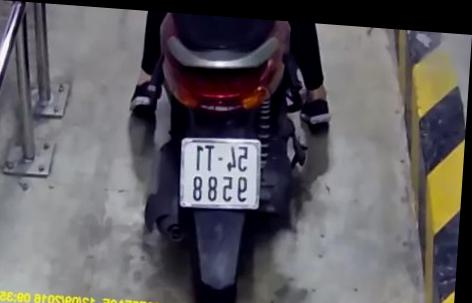License_Plate: (173, 131, 273, 221)
